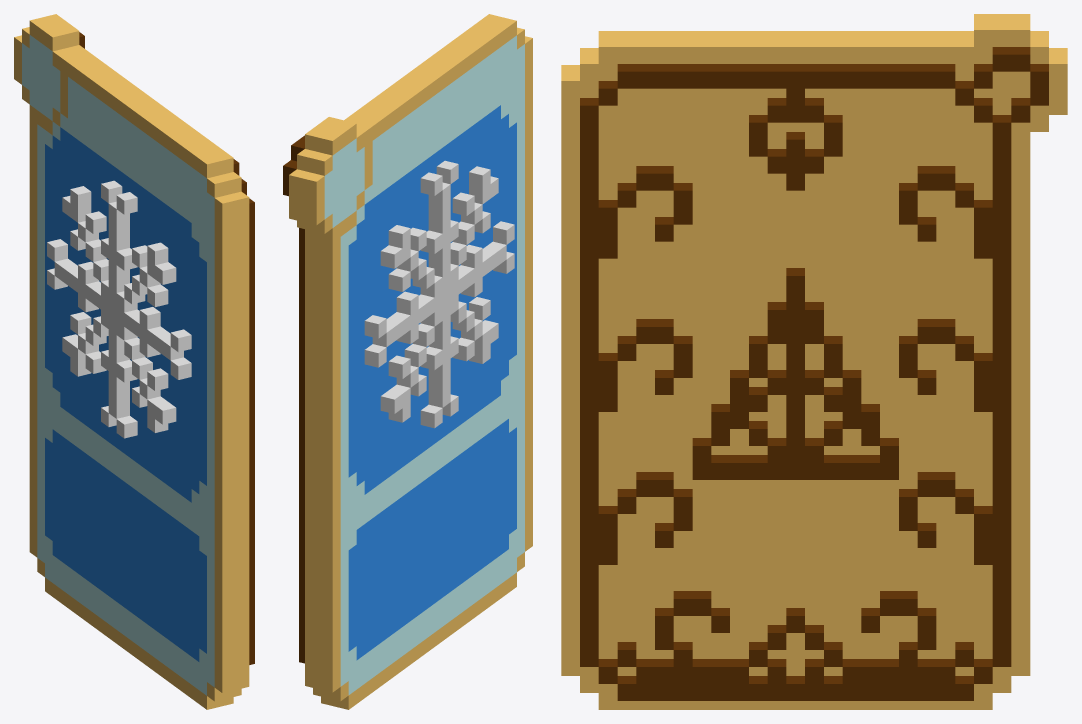
Rendered from Blizzard2.obj.
The picture shows the model from 3 angles, left to right: view 1: azimuth 30°, elevation 25°; view 2: azimuth 150°, elevation 25°; view 3: azimuth 270°, elevation 25°; orthographic projection. The views are drawn at different scales.
Bounding box in the file's own units: 0.4 × 4 × 2.7.
1 material, 1 textured.
